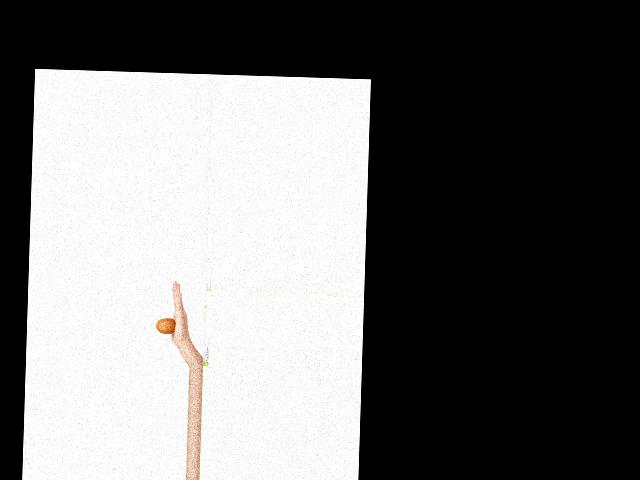egg: (156, 317, 176, 333)
